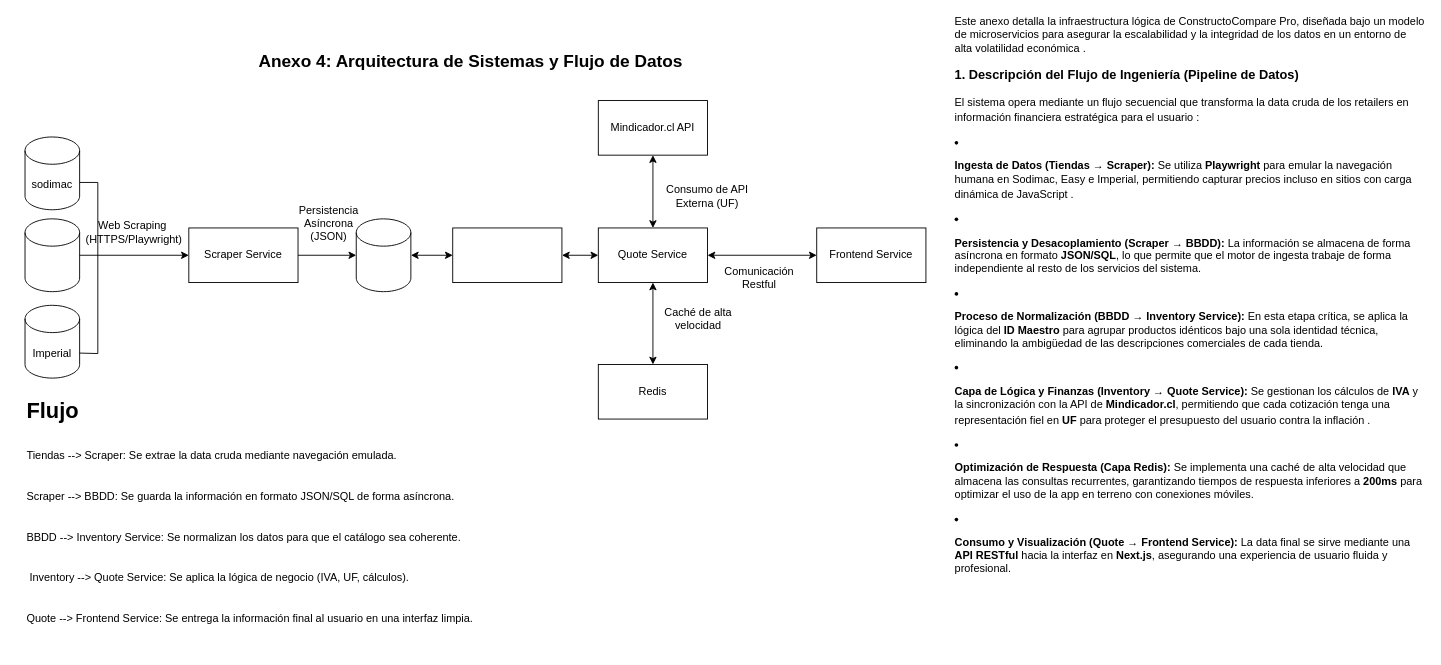
The diagram is 1441 pixels wide and 665 high, and some of its shapes have lost their labels. The shapes that lost their labels are listed below. From the top down, each one's centre as x and y in pixels, then its label:
At point (52, 255): "easy".
At point (383, 255): "BBDD".
At point (507, 255): "Inventory Service".
